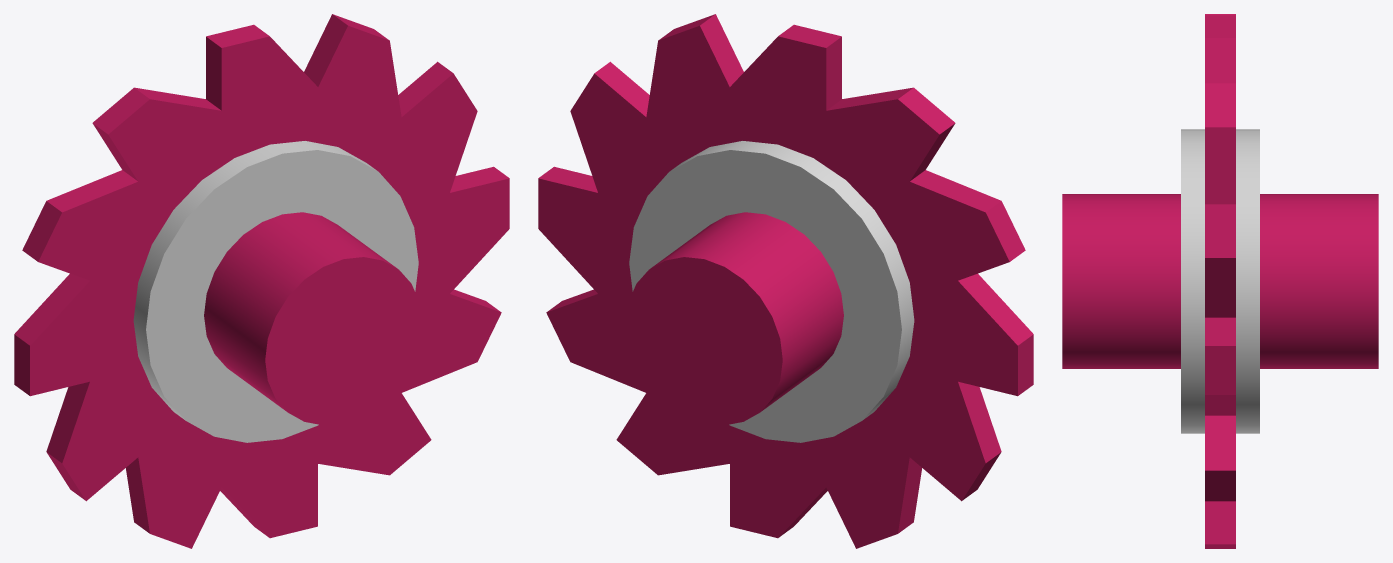
File: wheel_pink.fbx
3 views of the same model, side by side, from view 1: azimuth 30°, elevation 25°; view 2: azimuth 150°, elevation 25°; view 3: azimuth 270°, elevation 25° (orthographic). The views are drawn at different scales.
Visible parts, largest first — view 1: wheel_pink; view 2: wheel_pink; view 3: wheel_pink.
Part boxes in pixels (x1,y1,x2,y2): wheel_pink: [14, 14, 509, 548]; wheel_pink: [538, 14, 1033, 548]; wheel_pink: [1062, 14, 1378, 548].
Size of the model in its own units: 0.5843 by 0.5843 by 0.3442.
